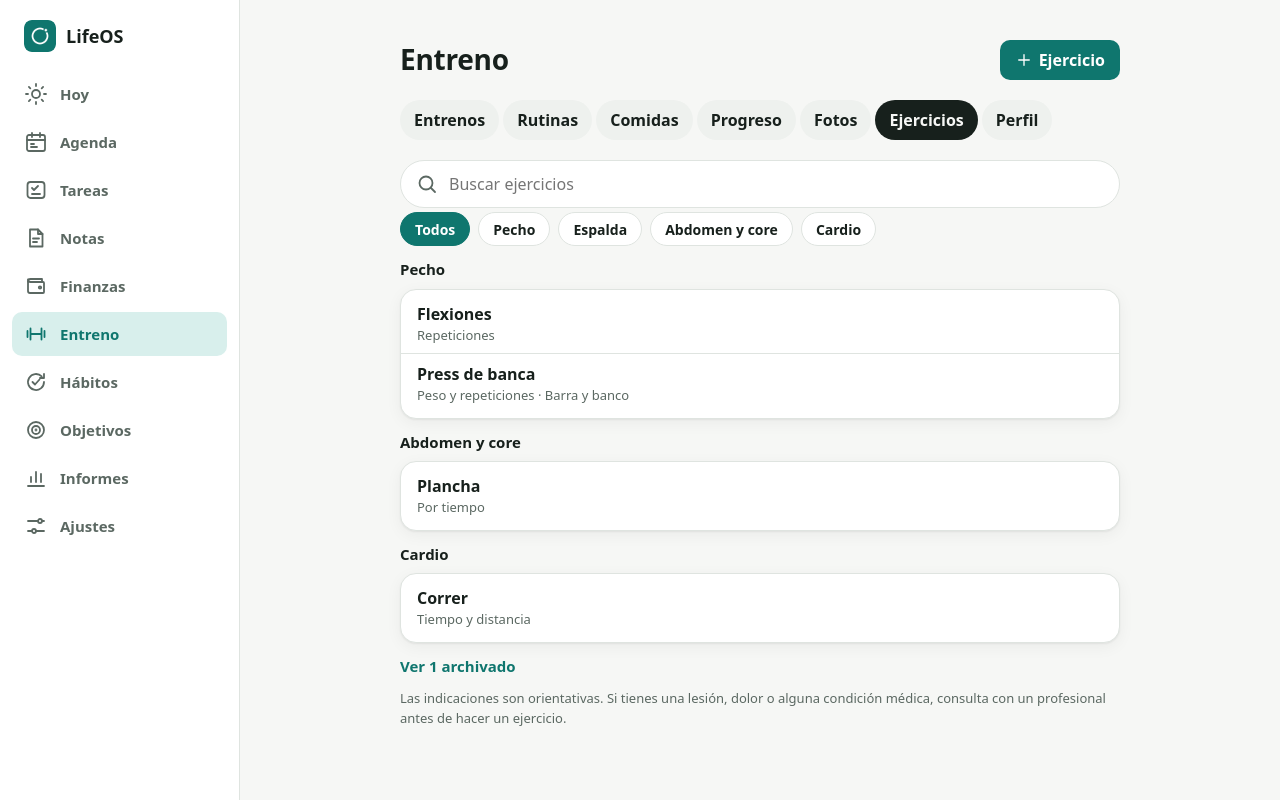
Test case: ejercicios y rutinas › agrupa el catálogo por grupo muscular, filtra y oculta los archivados
The image size is (1280, 800).
Check: the buttons read "FlexionesRepeticiones", "Press de bancaPeso y repeticiones · Barra y banco", in this order, box [401,294,1119,353]; [401,354,1119,414]
Check: the text "Remo antiguo" is not shown
In the search field labelled "Buscar ejercicios": (776, 184) [447,162,1105,206], type "barra"
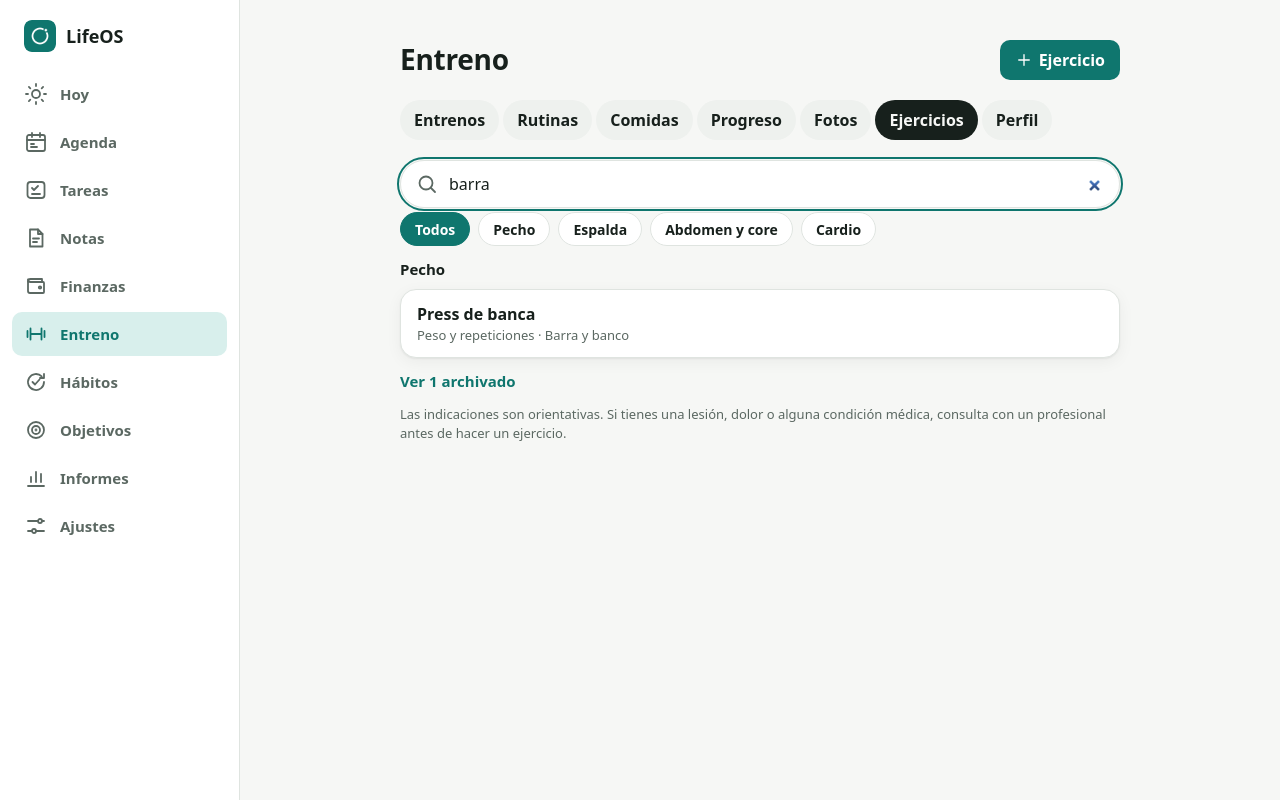
Check: the text "Press de banca" is shown, box [417,302,536,324]
Check: the button "Flexiones" is gone
Clear the search field named "Buscar ejercicios": (776, 184) [447,162,1105,206]
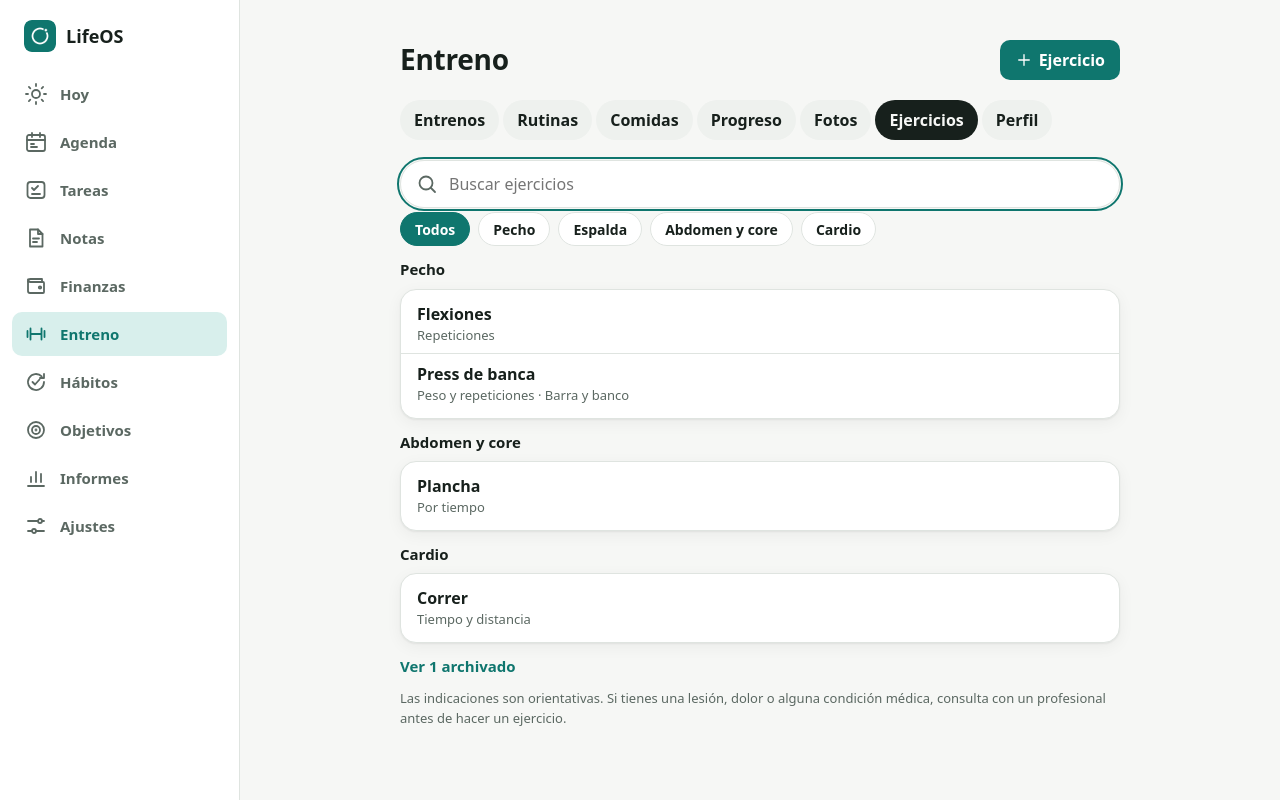
Click the button "Cardio": (839, 229) [801,212,876,246]
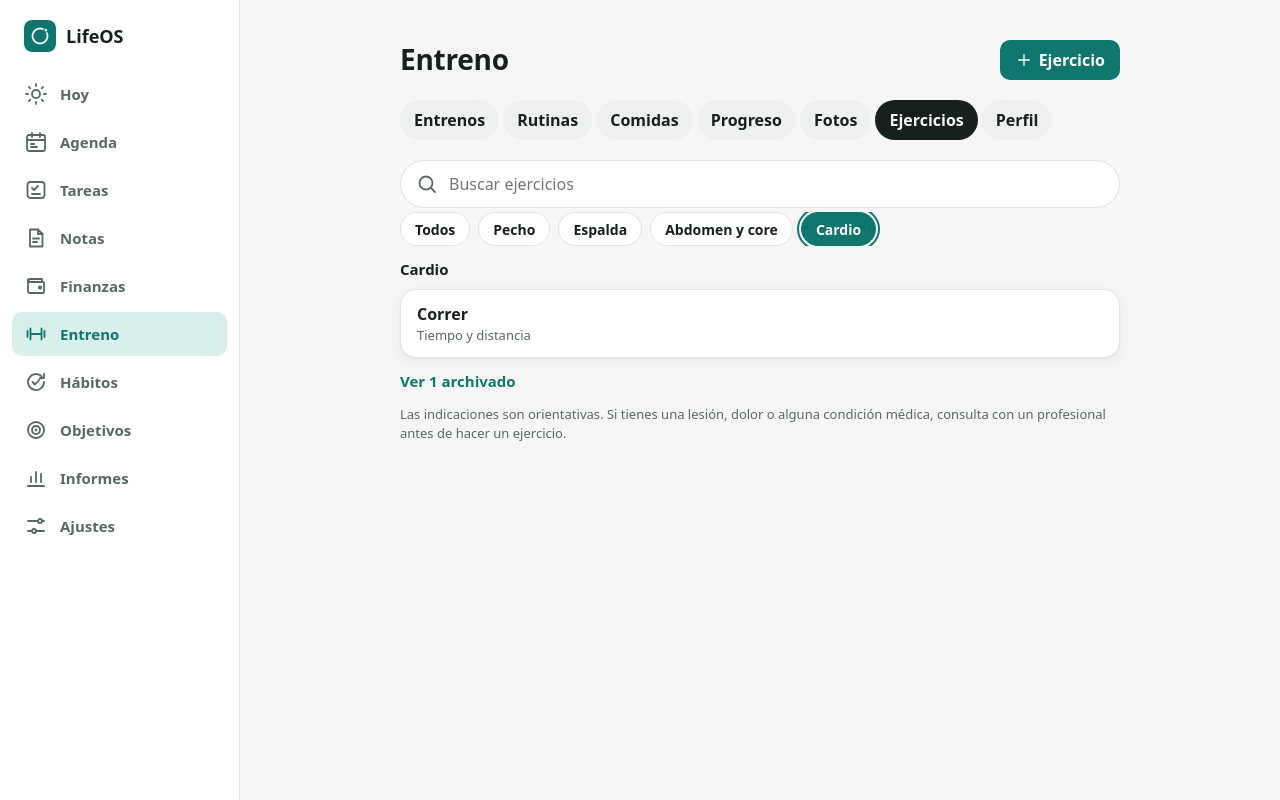
Check: the text "Correr" is shown, box [417,302,468,324]
Check: the button "Plancha" is gone
Click the button "Todos": (435, 229) [400,212,470,246]
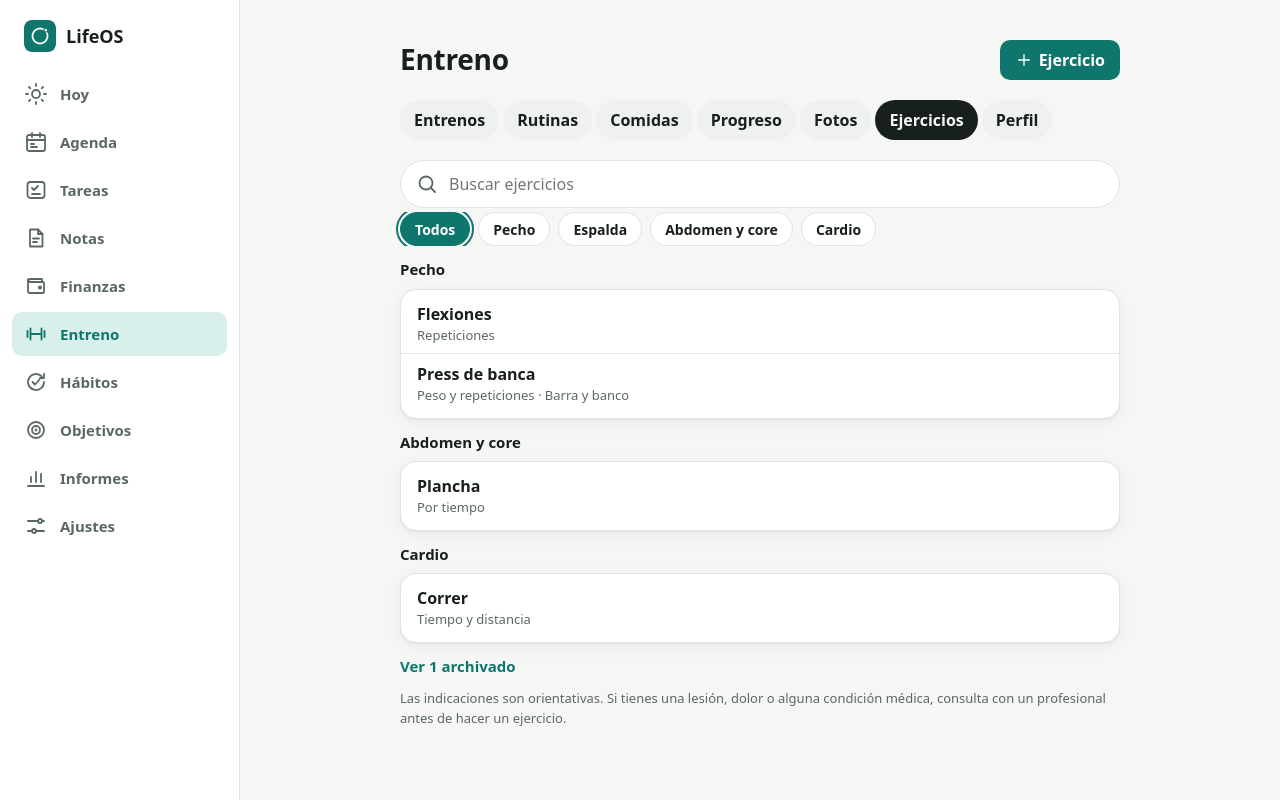
Click the button "Ver 1 archivado": (458, 666) [400,654,516,677]
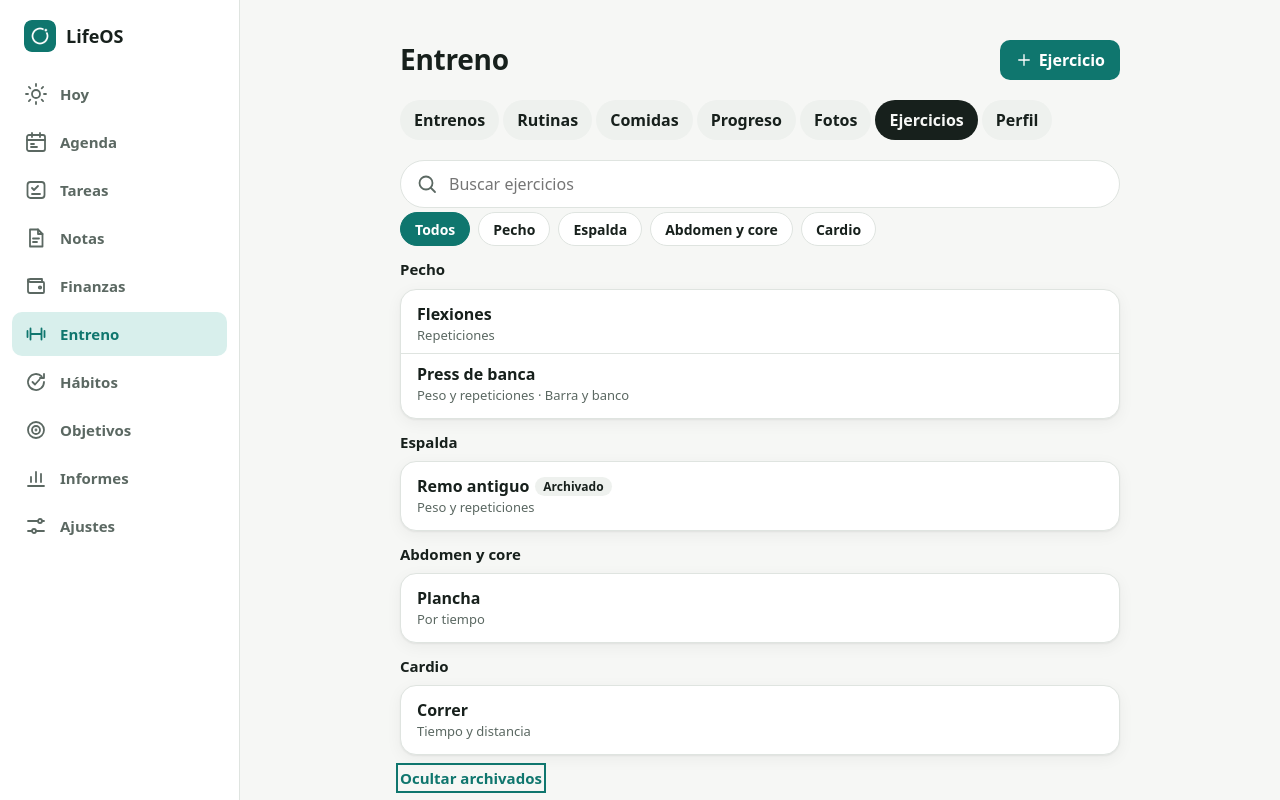
Check: the text "Remo antiguo" is shown, box [417,475,529,497]
Check: the text "Archivado" is shown, box [535,477,612,496]
